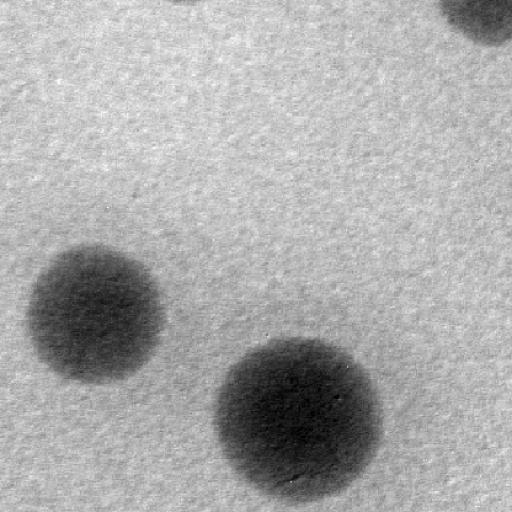Nanoparticles: (214, 335, 380, 497), (27, 245, 166, 383), (444, 2, 510, 44)
